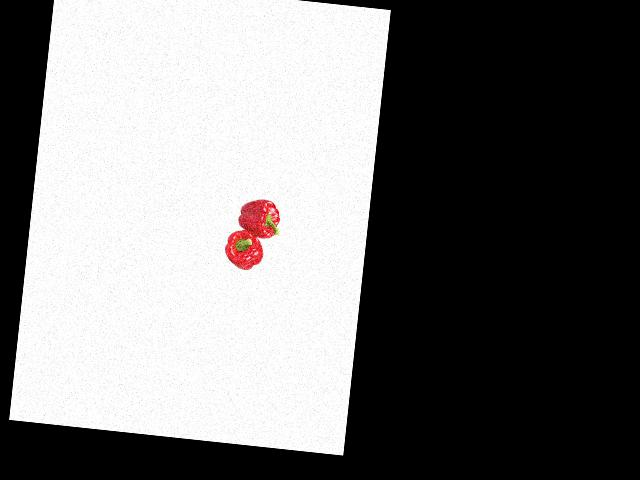bell_pepper: (233, 195, 284, 241)
